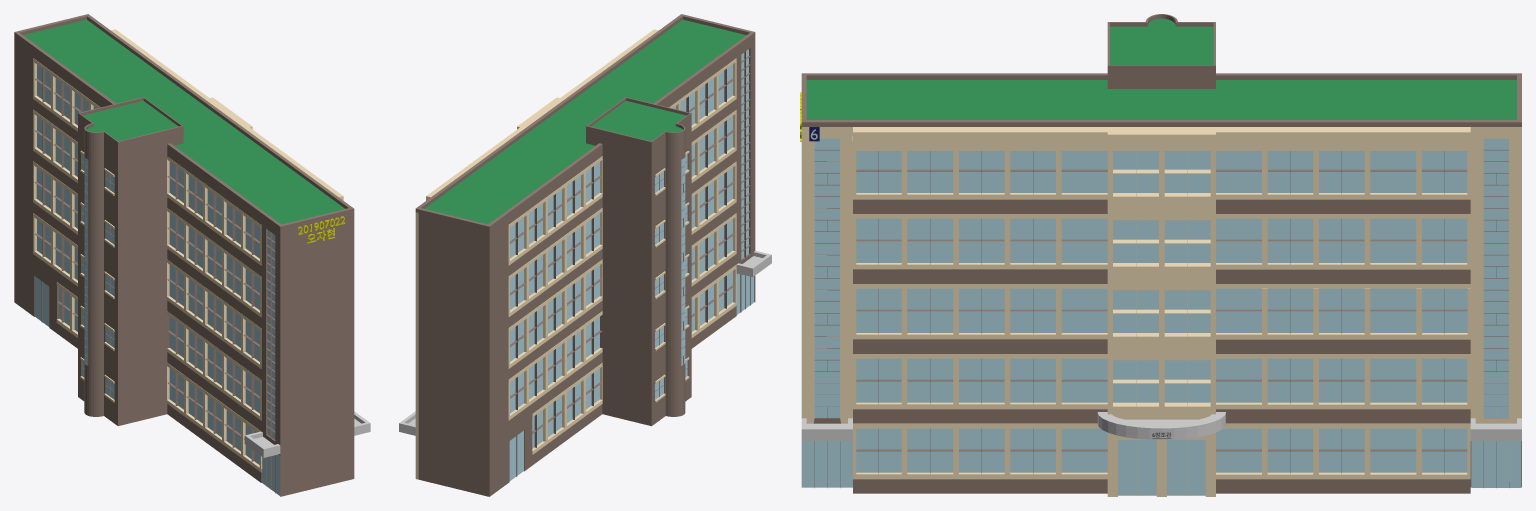
Rendered from 6building_6.glb.
3 views of the same model, side by side, from view 1: azimuth 30°, elevation 25°; view 2: azimuth 150°, elevation 25°; view 3: azimuth 270°, elevation 25° (orthographic). The views are drawn at different scales.
Visible parts, largest first — view 1: 5,6사이건물, right-side-building, 전면창문.001, left-side-building, Cube.042, Cube.027, Cube.058, Cube.056, Cube.044, Cube.057, Cube.059, Cube.069 (+9 smaller); view 2: 5,6사이건물, left-side-building, 전면창문.001, Cube.042, right-side-building, Cube.027, Cube.069, Cube.029, Cube.001, Cube.059, 원기둥창문, 안쪽창문 (+8 smaller); view 3: 전면창문, 5,6사이건물, Cube.036, center, Cube.001, left-side-building, right-side-building, Cube.018, Cube.038, Cube.027, Cube.047, Cube.049 (+10 smaller).
Part boxes in pixels (x1,y1,x2,y2): 5,6사이건물: (33,32,331,482); right-side-building: (261,199,354,496); 전면창문.001: (36,64,259,464); left-side-building: (14,19,103,315); Cube.042: (33,58,100,337); Cube.027: (87,15,352,208); Cube.058: (167,208,261,316); Cube.056: (167,311,261,420); Cube.044: (167,363,262,471); Cube.057: (167,259,261,368); Cube.059: (167,156,261,265); Cube.069: (15,32,281,228); 5,6사이건물: (438,32,736,482); left-side-building: (415,199,508,496); 전면창문.001: (510,64,732,448); Cube.042: (508,156,602,454); right-side-building: (666,19,755,315); Cube.027: (417,15,682,208); Cube.069: (488,32,753,228); Cube.029: (741,49,748,258); Cube.001: (426,29,658,200); Cube.059: (669,58,736,131); 원기둥창문: (681,157,685,365); 안쪽창문: (655,154,687,399); 전면창문: (856,151,1467,472); 5,6사이건물: (853,14,1470,493); Cube.036: (1216,144,1470,479); center: (1107,130,1215,495); Cube.001: (853,127,1470,150); left-side-building: (1470,80,1521,487); right-side-building: (801,80,852,487); Cube.018: (1483,138,1508,417); Cube.038: (814,138,839,417); Cube.027: (805,120,1517,126); Cube.047: (853,354,1107,409); Cube.049: (853,284,1107,339).
Size of the model in its own units: 103 by 165 by 281.
